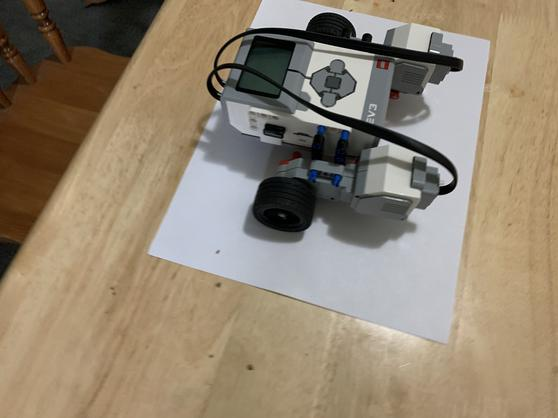robot: (190, 7, 471, 258)
